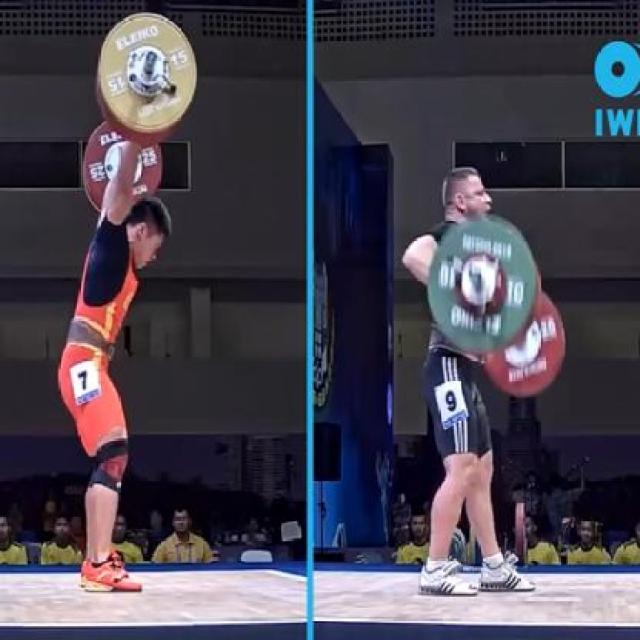barbell: (416, 206, 553, 366), (88, 10, 206, 141)
